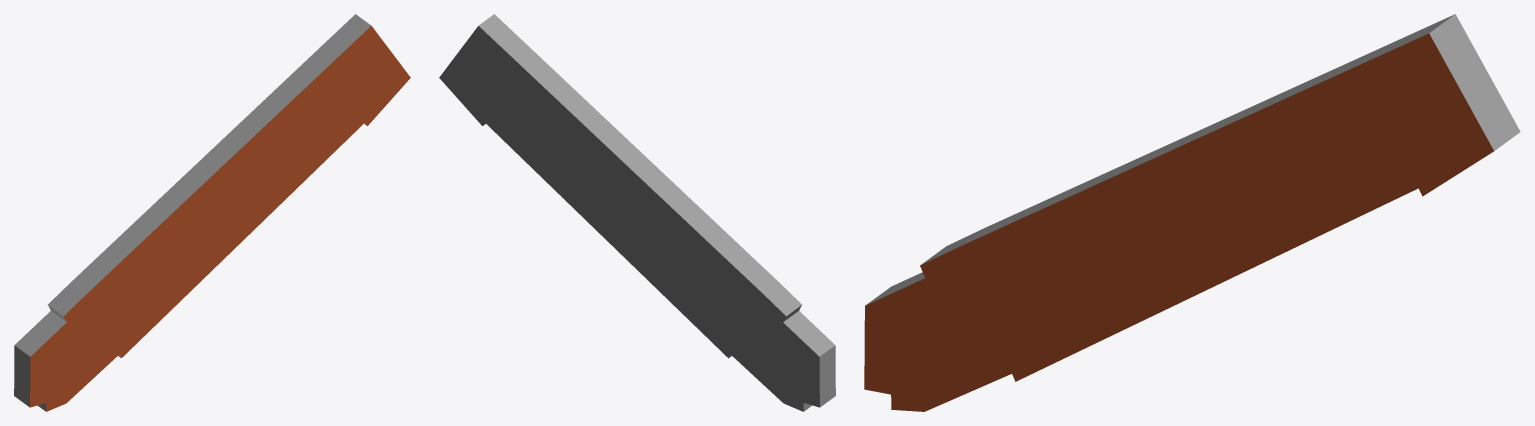
The model's file is construction_4836_assumed_A_Casa_h6m.obj.
3 views of the same model, side by side, from view 1: azimuth 30°, elevation 25°; view 2: azimuth 150°, elevation 25°; view 3: azimuth 330°, elevation 25° (orthographic). The views are drawn at different scales.
Visible parts, largest first — view 1: construction_4836_assumed_A_Casa; view 2: construction_4836_assumed_A_Casa; view 3: construction_4836_assumed_A_Casa.
Part boxes in pixels (bbox=[...]): construction_4836_assumed_A_Casa: bbox=[14, 14, 410, 411]; construction_4836_assumed_A_Casa: bbox=[439, 14, 835, 411]; construction_4836_assumed_A_Casa: bbox=[864, 14, 1520, 411].
Size of the model in its own units: 82.72 by 63.71 by 6.
